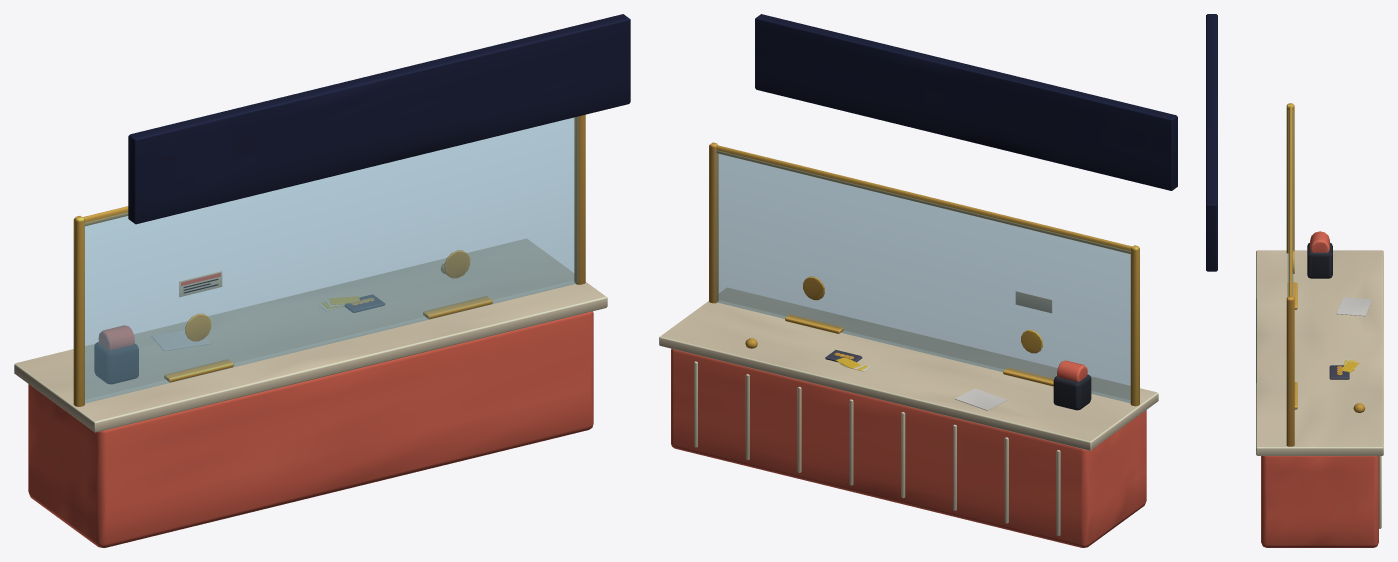
File: SM_Cinema_BoxOffice.fbx
The picture shows the model from 3 angles, left to right: view 1: azimuth 30°, elevation 25°; view 2: azimuth 150°, elevation 25°; view 3: azimuth 270°, elevation 25°; orthographic projection. The views are drawn at different scales.
Parts seen in each view (by area): view 1: SM_Cinema_BoxOffice; view 2: SM_Cinema_BoxOffice; view 3: SM_Cinema_BoxOffice.
Part boxes in pixels (x1,y1,x2,y2): SM_Cinema_BoxOffice: (14, 14, 630, 547); SM_Cinema_BoxOffice: (659, 14, 1177, 547); SM_Cinema_BoxOffice: (1206, 14, 1383, 547).
Size of the model in its own units: 476 by 388 by 181.
